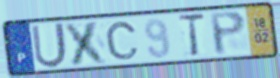9: (143, 17, 172, 59)
C: (104, 20, 142, 61)
P: (207, 9, 248, 57)
T: (176, 12, 208, 59)
U: (29, 21, 69, 70)
X: (62, 19, 110, 67)
